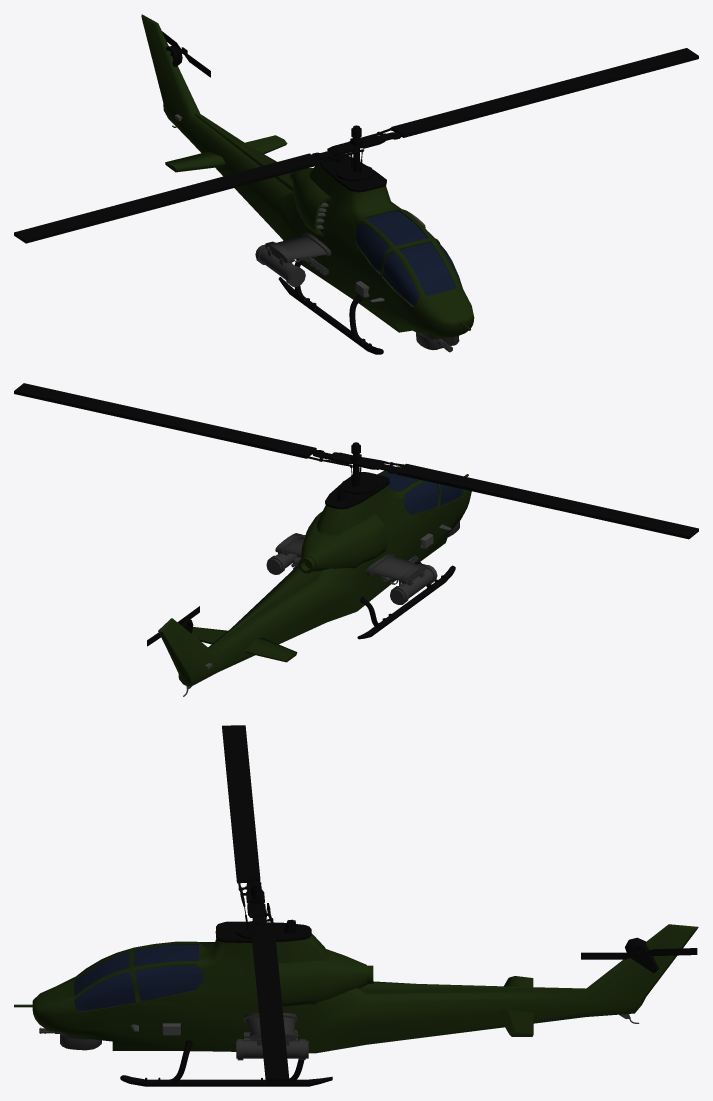
Rendered from Helicopter.fbx.
3 views of the same model, one above another, from view 1: azimuth 30°, elevation 25°; view 2: azimuth 150°, elevation 25°; view 3: azimuth 270°, elevation 25° (orthographic). The views are drawn at different scales.
Visible parts, largest first — view 1: Body, Rotors, Windows, Guns, Stand; view 2: Body, Rotors, Guns, Windows, Stand; view 3: Body, Rotors, Windows, Guns, Stand.
Boxes of the visible parts, bbox=[...] form: Body: bbox=[141, 14, 474, 337]; Rotors: bbox=[14, 31, 698, 243]; Windows: bbox=[355, 210, 462, 305]; Guns: bbox=[255, 210, 459, 352]; Stand: bbox=[278, 258, 383, 354]; Body: bbox=[158, 466, 471, 686]; Rotors: bbox=[14, 383, 698, 646]; Guns: bbox=[266, 521, 459, 604]; Windows: bbox=[382, 472, 462, 514]; Stand: bbox=[357, 560, 455, 639]; Body: bbox=[14, 924, 698, 1053]; Rotors: bbox=[215, 725, 697, 1082]; Windows: bbox=[74, 945, 203, 1011]; Guns: bbox=[39, 1013, 308, 1060]; Stand: bbox=[120, 1040, 332, 1086].
Bounding box in the file's own units: 2218 × 539 × 1814.
